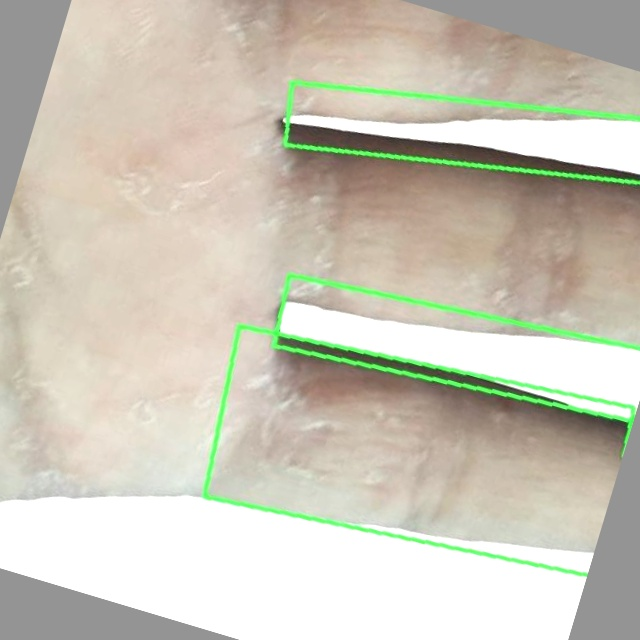Scabies: (204, 326, 635, 575), (274, 274, 639, 421), (285, 81, 639, 182)
